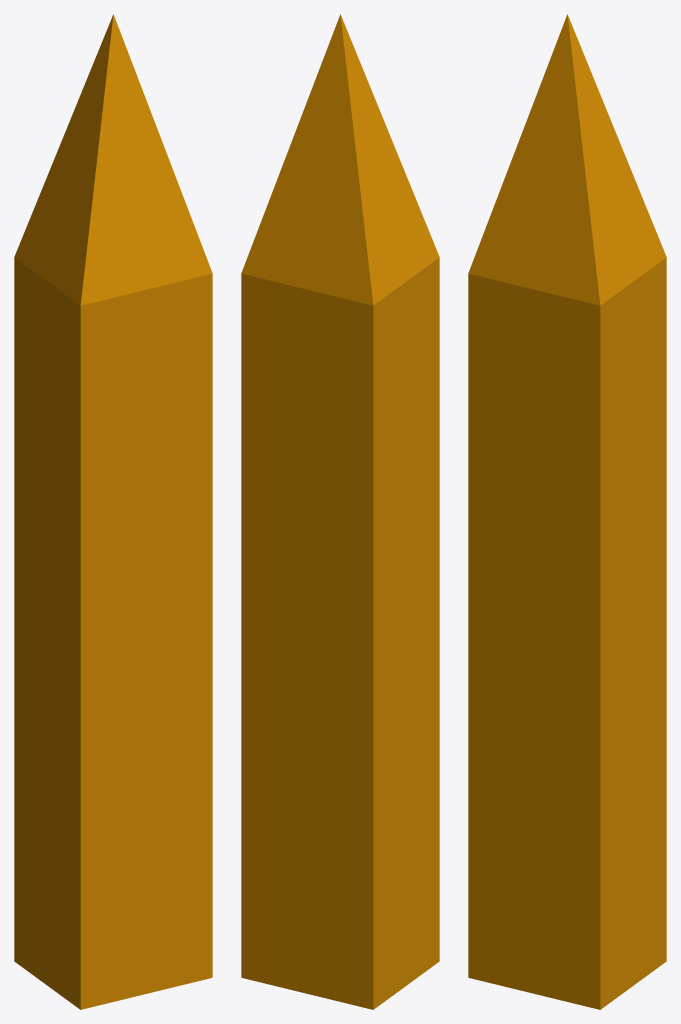
Rendered from minigun_shell.glb.
The picture shows the model from 3 angles, left to right: view 1: azimuth 30°, elevation 25°; view 2: azimuth 150°, elevation 25°; view 3: azimuth 330°, elevation 25°; orthographic projection.
Visible parts, largest first — view 1: minigun shell; view 2: minigun shell; view 3: minigun shell.
Boxes of the visible parts, box(x1,y1,x2,y2) form: minigun shell: box(14, 14, 212, 1009); minigun shell: box(241, 14, 439, 1009); minigun shell: box(468, 14, 666, 1009).
Bounding box in the file's own units: 0.0573 × 0.3959 × 0.0498.
